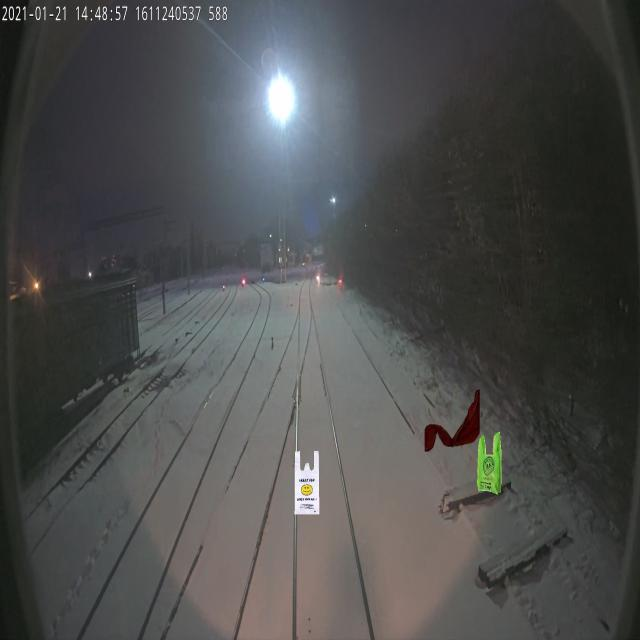floating object: (424, 388, 480, 452)
plastic bag: (294, 450, 320, 514), (476, 431, 502, 495)
